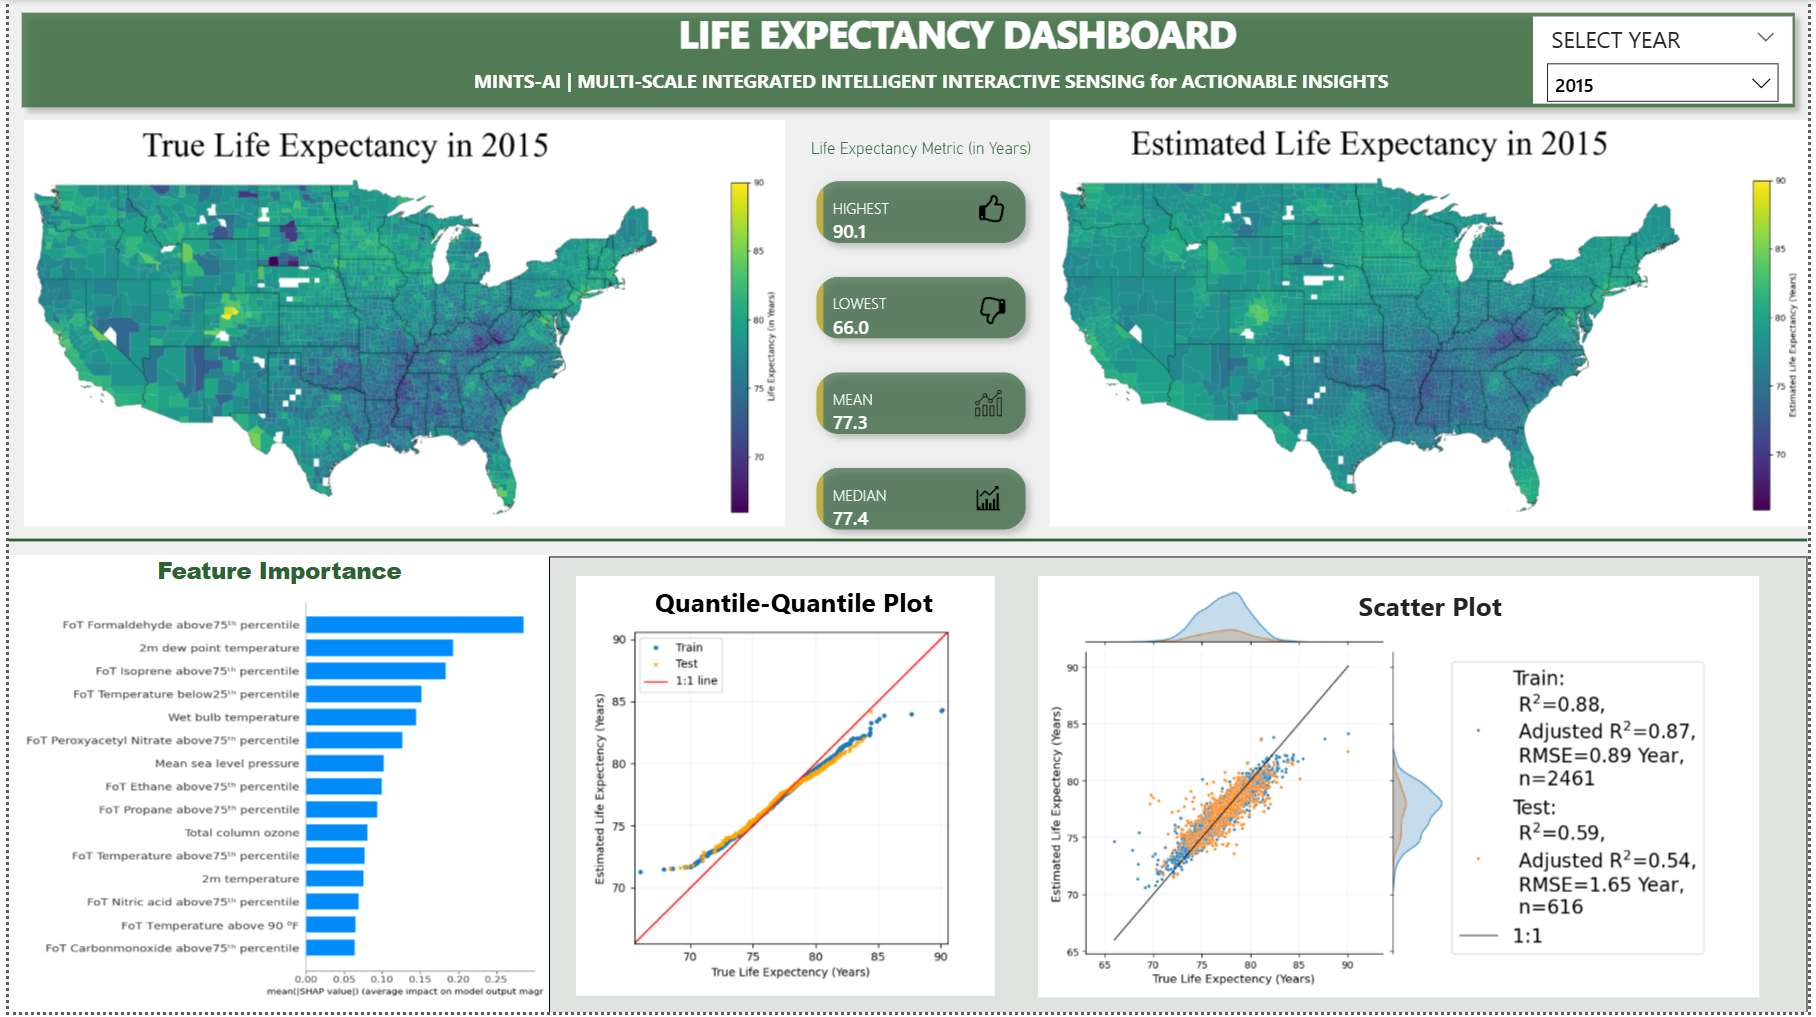

The page's visual inventory and layout, read from the dashboard file:
{"tool":"powerbi","page":{"name":"Page 1","canvas":[1280,720],"ordinal":0},"visuals":[{"type":"shape","box":[0,0,1279.6,85.4],"z":0},{"type":"textbox","box":[470.6,295.6,228.4,39.5],"z":1000},{"type":"textbox","box":[481.3,20.3,434.4,53.4],"z":2000},{"type":"cardVisual","title":"Life Expectancy Metric (in Years)","fields":{"Data":["all_years.Highest","all_years.Lowest","all_years.Mean","all_years.Median"]},"box":[557.1,92.8,183.6,303.1],"z":3000},{"type":"slicer","fields":{"Values":["all_years.year"]},"box":[1084.3,11.7,184.6,61.9],"z":4000},{"type":"simpleImageEBC4593F96F1425FB3D84C5BF02B5075","fields":{"imageURL":["pictures.true"]},"box":[10.7,85.4,541.1,289.2],"z":5000},{"type":"simpleImageEBC4593F96F1425FB3D84C5BF02B5075","fields":{"imageURL":["pictures.Estimated"]},"box":[740.6,85.4,540,289.2],"z":6000},{"type":"shape","box":[0,372.5,1279.6,23.5],"z":7000},{"type":"simpleImageEBC4593F96F1425FB3D84C5BF02B5075","title":"Feature Importance","fields":{"imageURL":["pictures.Features"]},"box":[0,395.9,336.2,324.4],"z":8000},{"type":"shape","box":[357.5,395.9,922.1,324.4],"z":9000},{"type":"simpleImageEBC4593F96F1425FB3D84C5BF02B5075","fields":{"imageURL":["pictures.qq"]},"box":[403.4,409.8,297.8,298.8],"z":10000},{"type":"simpleImageEBC4593F96F1425FB3D84C5BF02B5075","fields":{"imageURL":["pictures.scatter"]},"box":[757.7,409.8,299.9,299.9],"z":11000}]}

Visuals, with their boxes in screenshot pixels (x1, y1, x2, y2), scaled from the page's 1280x720 canvas onto the 1816x1017 screenshot:
shape: BBox(0, 0, 1815, 121)
textbox: BBox(668, 418, 992, 473)
textbox: BBox(683, 29, 1299, 104)
"Life Expectancy Metric (in Years)" cardVisual: BBox(790, 131, 1051, 559)
slicer - all_years.year: BBox(1538, 17, 1800, 104)
simpleImageEBC4593F96F1425FB3D84C5BF02B5075 - pictures.true: BBox(15, 121, 783, 529)
simpleImageEBC4593F96F1425FB3D84C5BF02B5075 - pictures.Estimated: BBox(1051, 121, 1815, 529)
shape: BBox(0, 526, 1815, 559)
"Feature Importance" simpleImageEBC4593F96F1425FB3D84C5BF02B5075: BBox(0, 559, 477, 1016)
shape: BBox(507, 559, 1815, 1016)
simpleImageEBC4593F96F1425FB3D84C5BF02B5075 - pictures.qq: BBox(572, 579, 995, 1001)
simpleImageEBC4593F96F1425FB3D84C5BF02B5075 - pictures.scatter: BBox(1075, 579, 1500, 1002)
